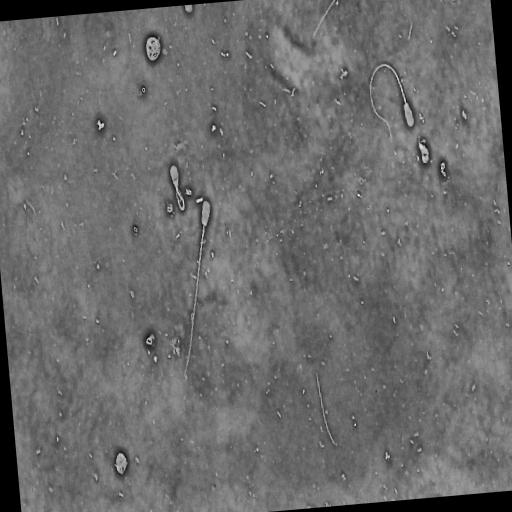coiled-tail: (176, 189, 185, 211), (177, 191, 182, 201)
dirt-particles: (144, 32, 163, 64), (114, 448, 130, 477), (417, 136, 431, 167)
loose-tail: (315, 368, 337, 446), (311, 0, 338, 41)
normal: (181, 198, 212, 381), (368, 61, 417, 144), (167, 158, 187, 210)
